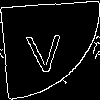V: (25, 25, 64, 74)
